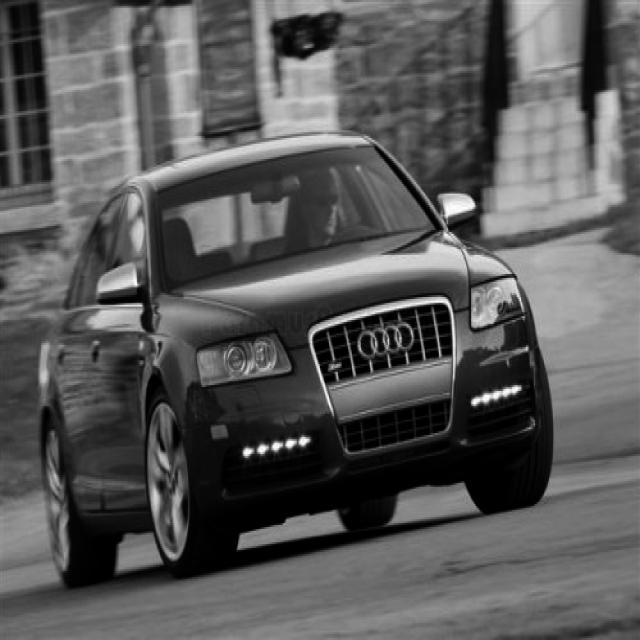car: (37, 126, 554, 588)
